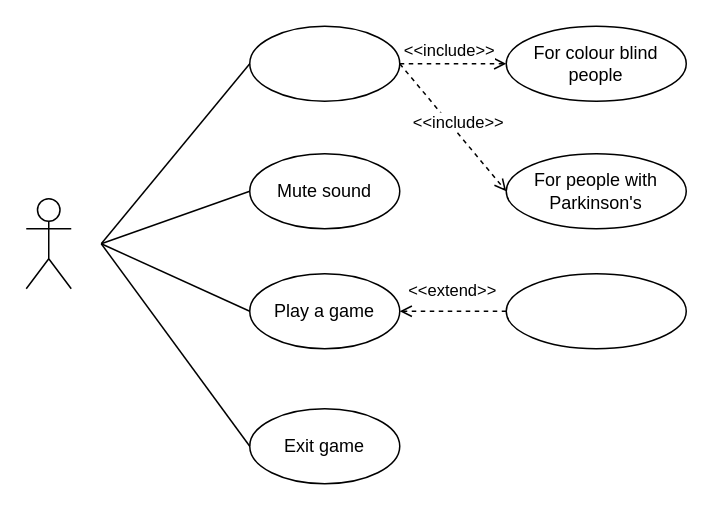
Some shapes in this 713 by 510 pixel diagram are drawn without their labels. The centre of each missing label's shape, as x and y in pixels:
"Go back to menu" belongs at point (595, 310).
"Switch accesibility" belongs at point (324, 63).
"User" belongs at point (48, 243).
